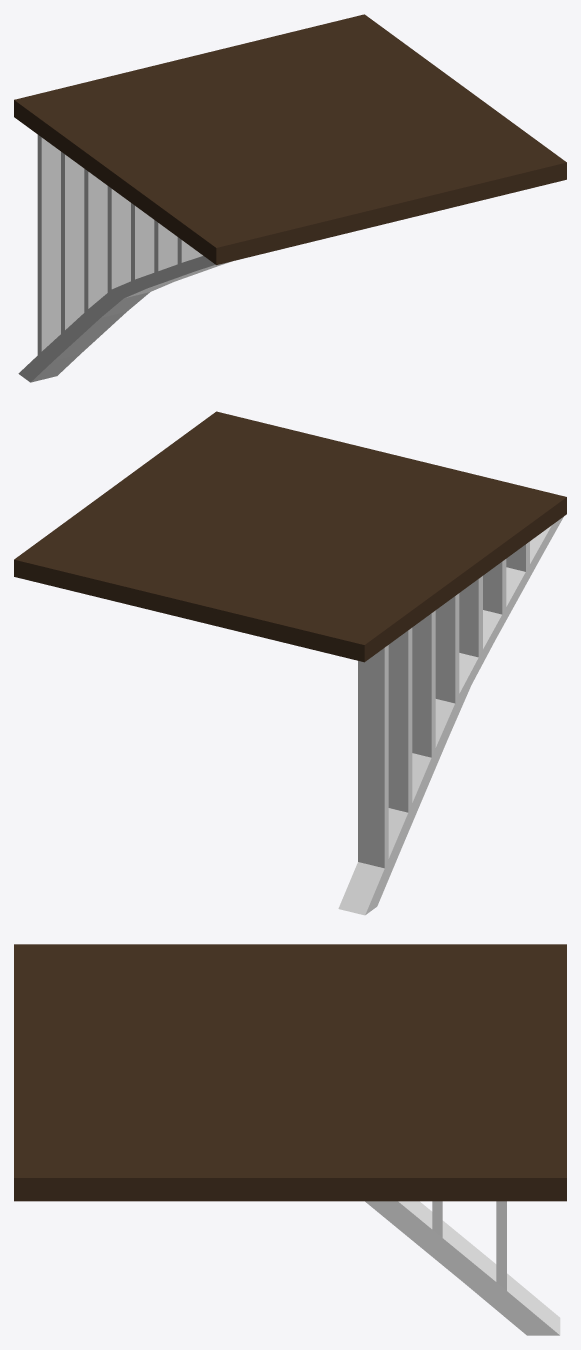
File: HangingFloorL.fbx
3 views of the same model, one above another, from view 1: azimuth 30°, elevation 25°; view 2: azimuth 150°, elevation 25°; view 3: azimuth 270°, elevation 25° (orthographic). The views are drawn at different scales.
Visible parts, largest first — view 1: HANGING FLOOR, FRAMES; view 2: HANGING FLOOR, FRAMES; view 3: HANGING FLOOR, FRAMES.
Boxes of the visible parts, <box> form: HANGING FLOOR: <box>14,14,566,264</box>; FRAMES: <box>18,135,231,382</box>; HANGING FLOOR: <box>14,411,566,662</box>; FRAMES: <box>338,516,563,915</box>; HANGING FLOOR: <box>14,944,566,1201</box>; FRAMES: <box>365,1201,560,1335</box>.
Size of the model in its own units: 800 by 594 by 800.
